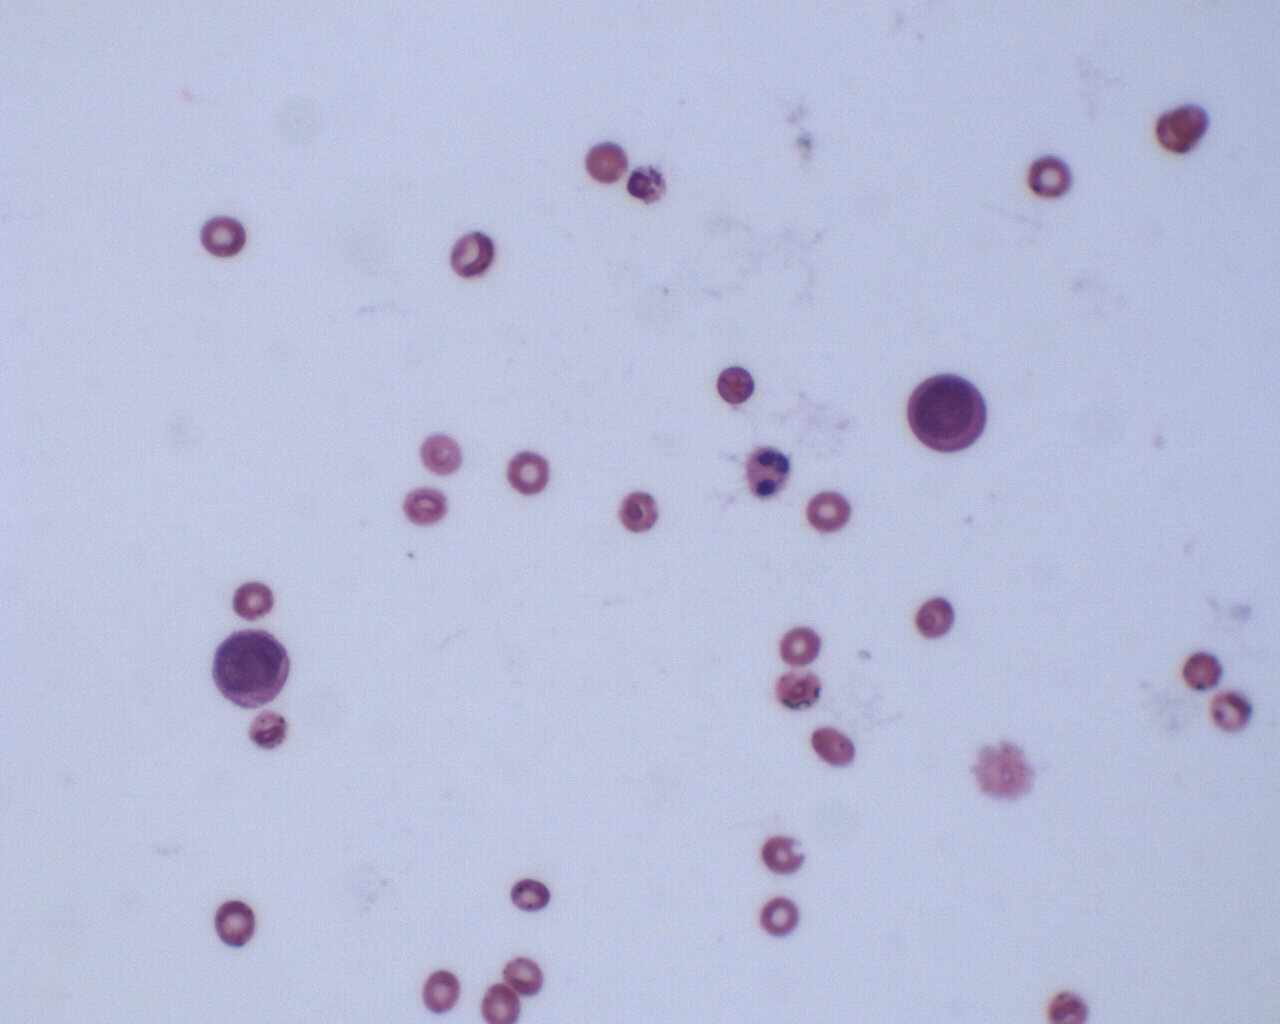ab: (901, 370, 994, 458), (205, 626, 293, 709)
neutro: (740, 445, 797, 508)
